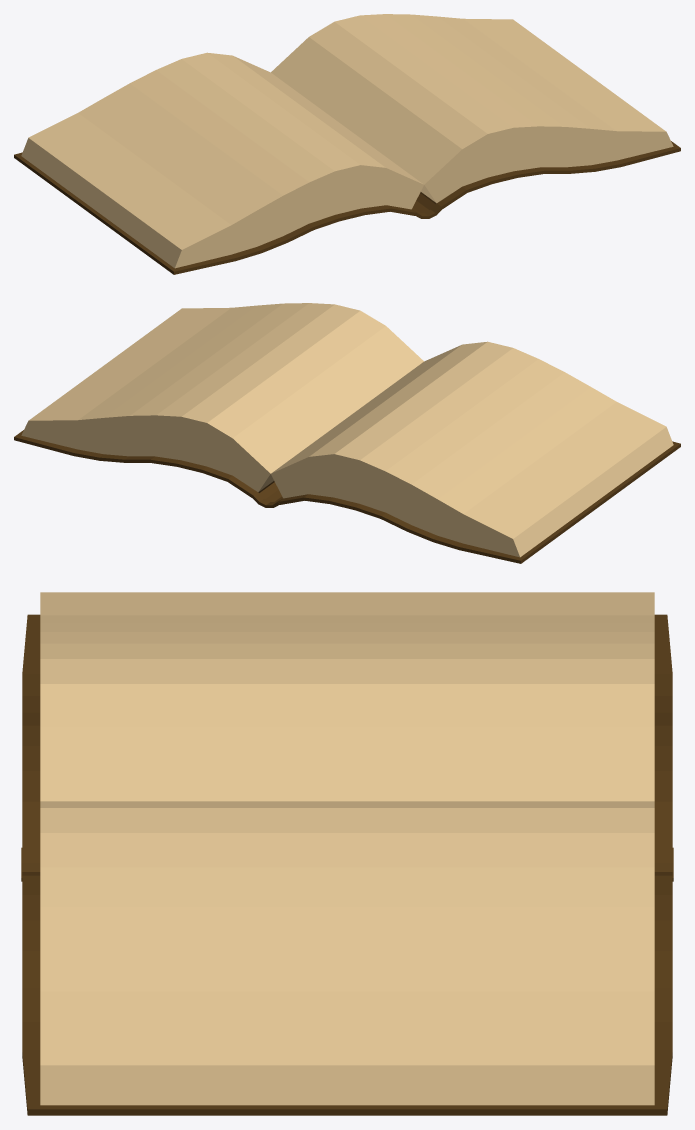
Rendered from TutorialBook.glb.
3 renders of one model, top to bottom at view 1: azimuth 30°, elevation 25°; view 2: azimuth 150°, elevation 25°; view 3: azimuth 270°, elevation 25°, orthographic. The views are drawn at different scales.
Parts seen in each view (by area): view 1: BookPages, BookCover; view 2: BookPages, BookCover; view 3: BookPages, BookCover.
Part boxes in pixels (x1,y1,x2,y2): BookPages: (21,14,673,268); BookCover: (14,141,680,274); BookPages: (21,303,673,557); BookCover: (14,430,680,563); BookPages: (40,592,654,1105); BookCover: (21,614,673,1115).
Size of the model in its own units: 1.46 by 0.1823 by 0.8146.
